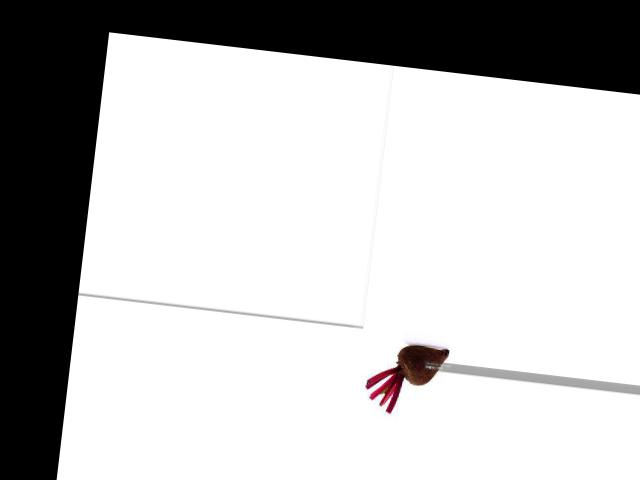beet: (363, 339, 450, 419)
